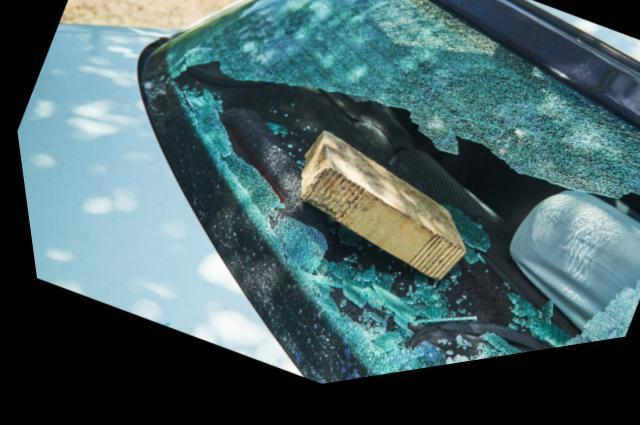glass shatter: (136, 0, 640, 392)
